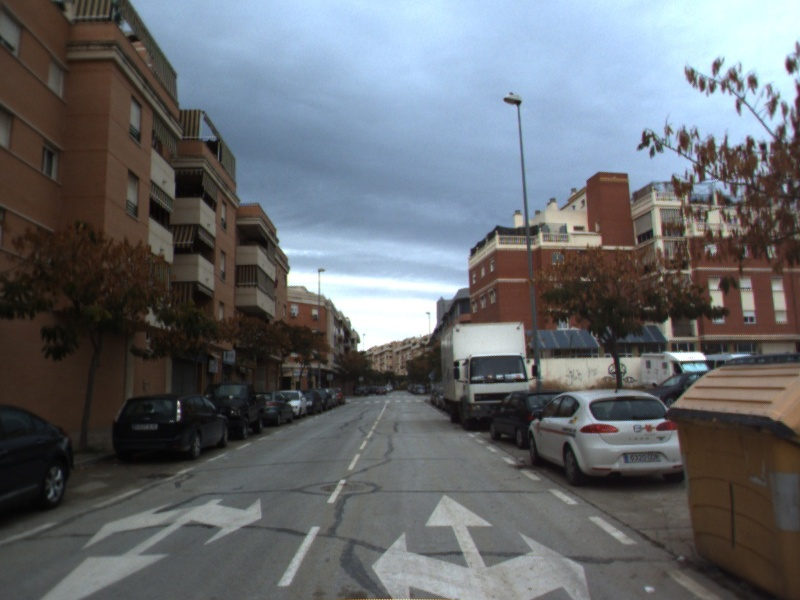STRAIGHT_LEFT_RIGHT: (368, 489, 593, 600)
